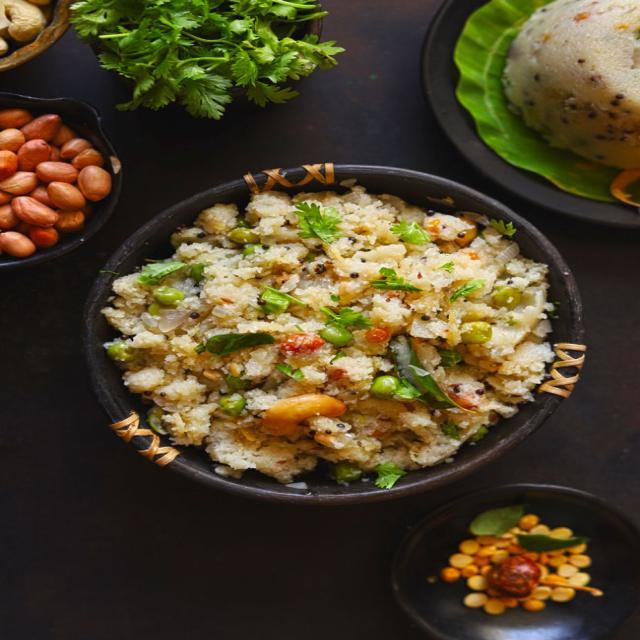upma: (92, 171, 601, 497)
